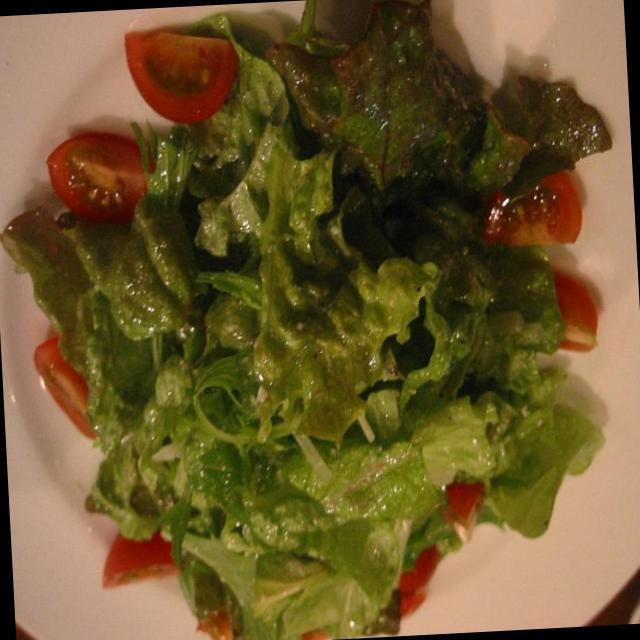Green Salad: (61, 43, 603, 640)
